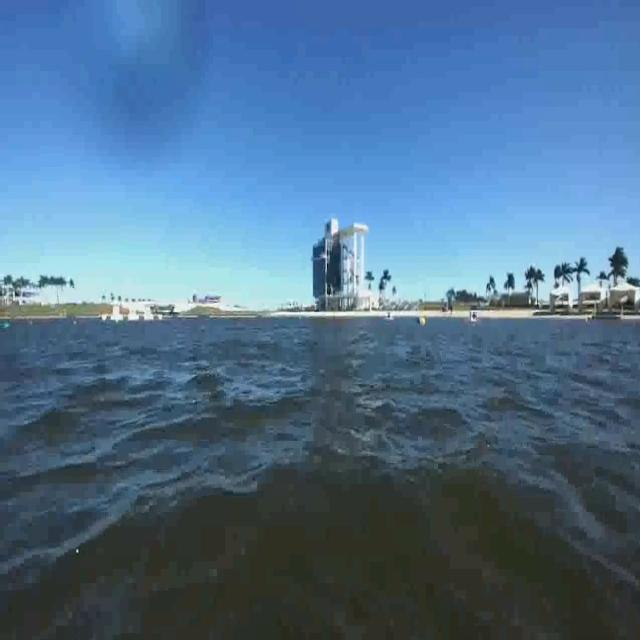yellow-buoy: (419, 313, 426, 330)
